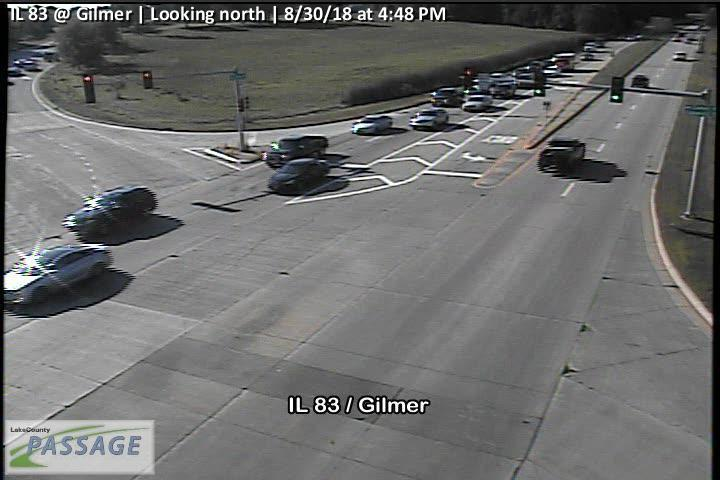SUV: (266, 135, 328, 170), (538, 137, 587, 172)
Sedan: (1, 245, 112, 315), (61, 185, 158, 236), (267, 157, 332, 197), (409, 108, 449, 131), (350, 115, 393, 136), (430, 87, 462, 106), (462, 95, 493, 111)
